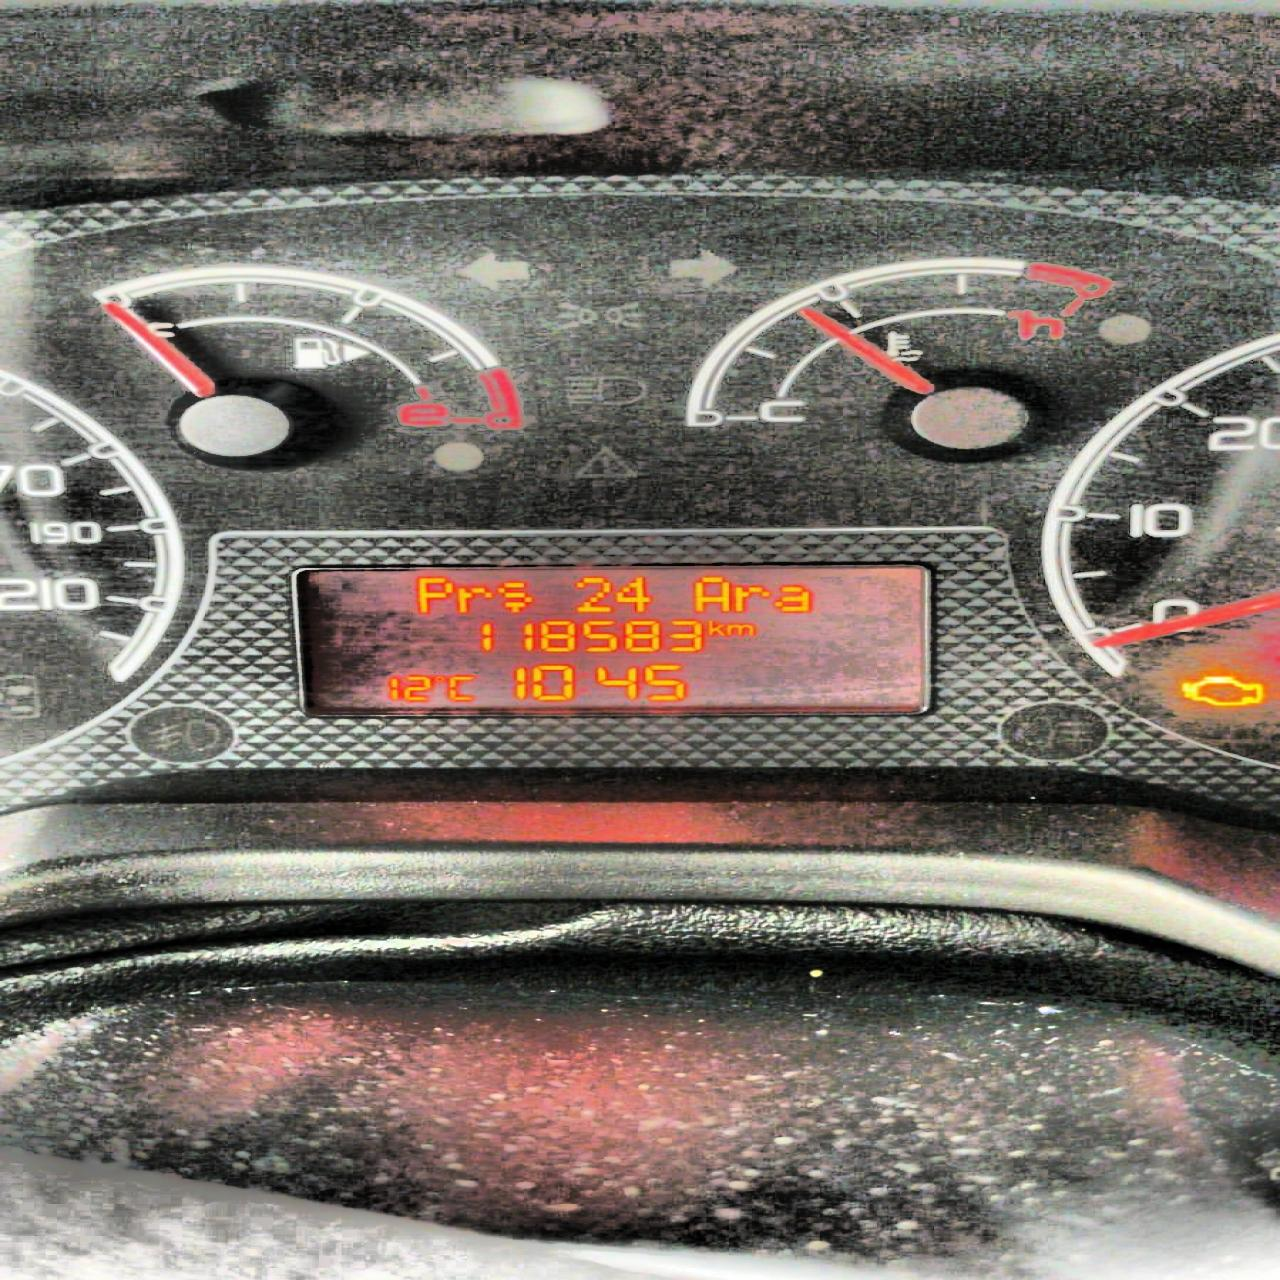0: (530, 663, 573, 701)
1: (472, 618, 502, 655), (508, 663, 527, 702), (516, 617, 533, 654), (381, 673, 399, 703)
2: (571, 574, 612, 615), (403, 673, 431, 701)
3: (668, 617, 702, 654)
4: (591, 663, 638, 701), (617, 576, 654, 610)
5: (644, 662, 688, 701), (581, 618, 618, 652)
8: (622, 618, 661, 652), (538, 619, 576, 652)
X: (689, 574, 728, 612), (415, 576, 451, 614), (770, 583, 812, 614), (497, 578, 531, 614), (456, 584, 492, 614), (731, 583, 769, 612), (445, 673, 478, 702), (727, 622, 755, 638), (707, 618, 724, 636)
odometer: (285, 557, 947, 722)
